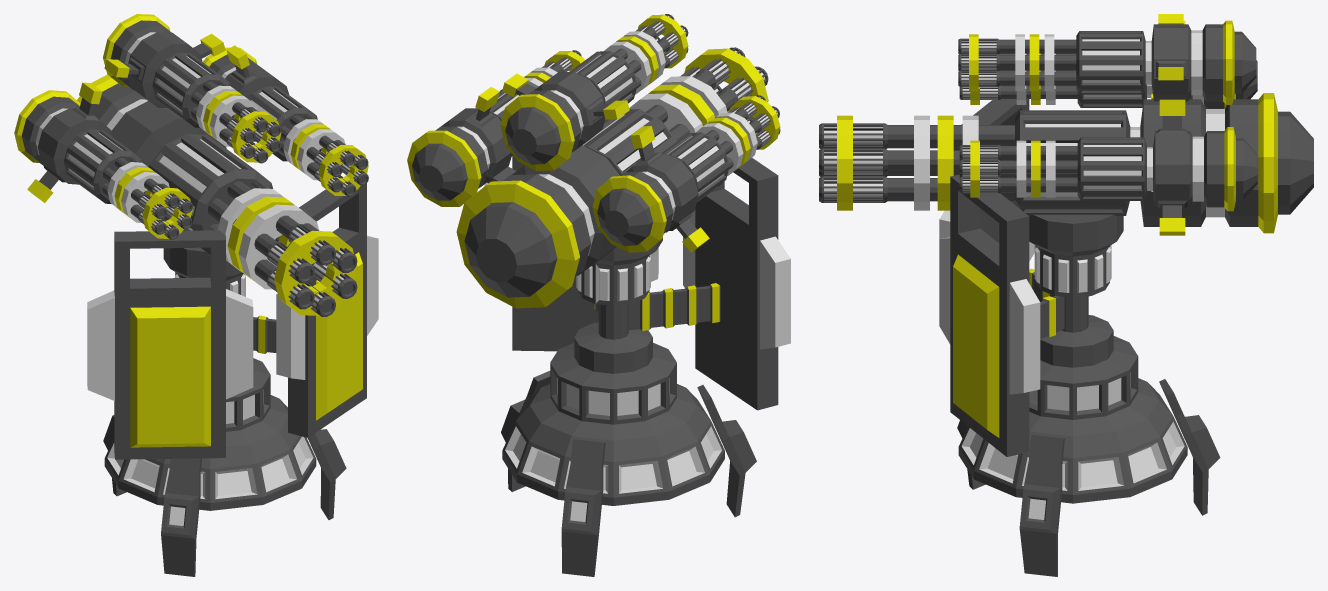
The model's file is tower4_3.fbx.
3 views of the same model, side by side, from view 1: azimuth 30°, elevation 25°; view 2: azimuth 150°, elevation 25°; view 3: azimuth 270°, elevation 25° (orthographic). The views are drawn at different scales.
Visible parts, largest first — view 1: polySurface179; view 2: polySurface179; view 3: polySurface179.
Part boxes in pixels (x1,y1,x2,y2): polySurface179: (14,14,378,576); polySurface179: (407,14,790,576); polySurface179: (819,14,1313,576).
Size of the model in its own units: 0.5373 by 0.8119 by 0.7314.
